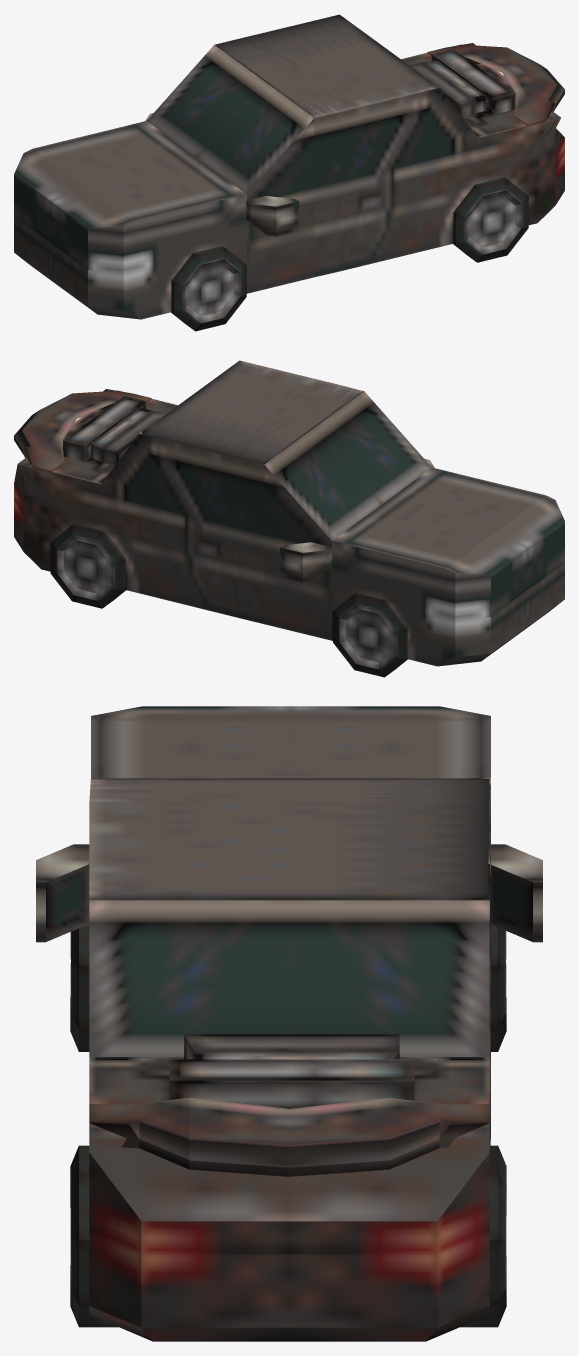
File: Poly_SF_Outside_B_Black_Car_01.obj
3 views of the same model, one above another, from view 1: azimuth 30°, elevation 25°; view 2: azimuth 150°, elevation 25°; view 3: azimuth 270°, elevation 25° (orthographic). The views are drawn at different scales.
Parts seen in each view (by area): view 1: Cube.004, Cube.001, Cube.005, Cube.003, Cube.006; view 2: Cube.004, Cube.005, Cube.001, Cube.003, Cube.006; view 3: Cube.004, Cube.003, Cube.006, Cube.005, Cube.001.
Boxes of the visible parts, left/top/right/bottom form: Cube.004: left=14, top=14, right=564, bottom=319; Cube.001: left=171, top=246, right=246, bottom=331; Cube.005: left=453, top=177, right=528, bottom=262; Cube.003: left=427, top=43, right=564, bottom=125; Cube.006: left=145, top=113, right=299, bottom=236; Cube.004: left=14, top=360, right=564, bottom=666; Cube.005: left=50, top=523, right=125, bottom=608; Cube.001: left=333, top=593, right=407, bottom=677; Cube.003: left=14, top=389, right=151, bottom=471; Cube.006: left=280, top=458, right=434, bottom=582; Cube.004: left=89, top=706, right=490, bottom=1341; Cube.003: left=89, top=1097, right=489, bottom=1176; Cube.006: left=36, top=844, right=542, bottom=942; Cube.005: left=70, top=1145, right=506, bottom=1327; Cube.001: left=70, top=898, right=506, bottom=1051.
Bounding box in the file's own units: 2.29 × 0.8014 × 1.01.
Materials: 1 (1 with a texture image).
